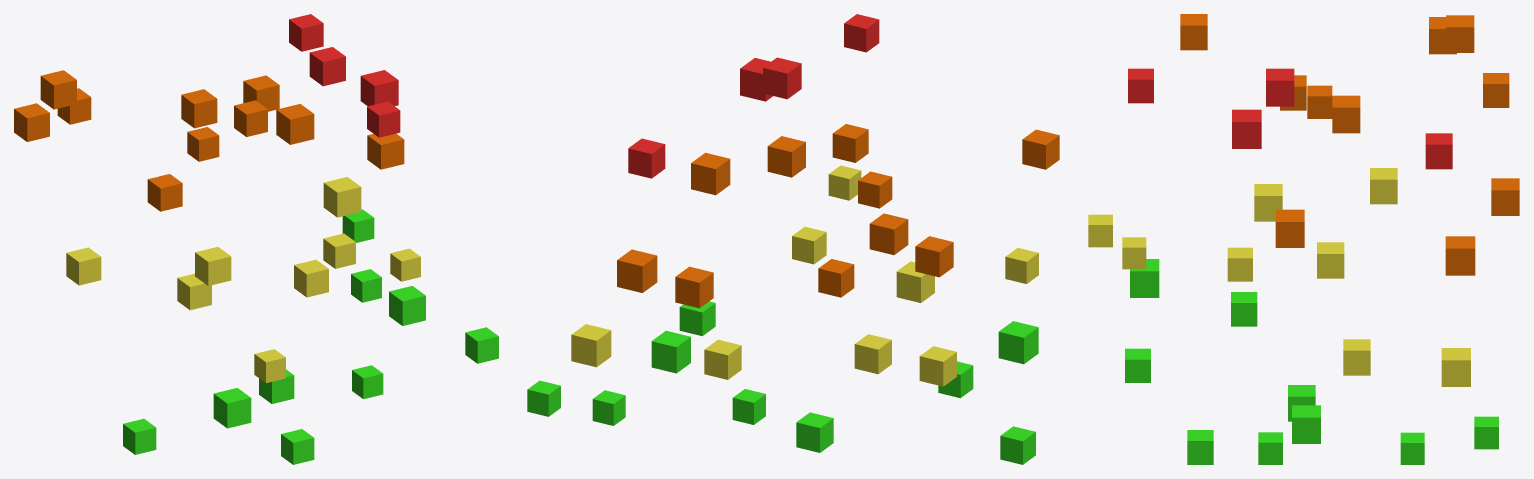
3 views of the same model, side by side, from view 1: azimuth 30°, elevation 25°; view 2: azimuth 150°, elevation 25°; view 3: azimuth 270°, elevation 25° (orthographic). The views are drawn at different scales.
Parts seen in each view (by area): view 1: Cube; view 2: Cube; view 3: Cube.
Part boxes in pixels (left/top/right/bottom): Cube: left=14, top=14, right=498, bottom=464; Cube: left=527, top=14, right=1059, bottom=464; Cube: left=1088, top=14, right=1519, bottom=464.
Bounding box in the file's own units: 32.95 × 29.37 × 31.32.
